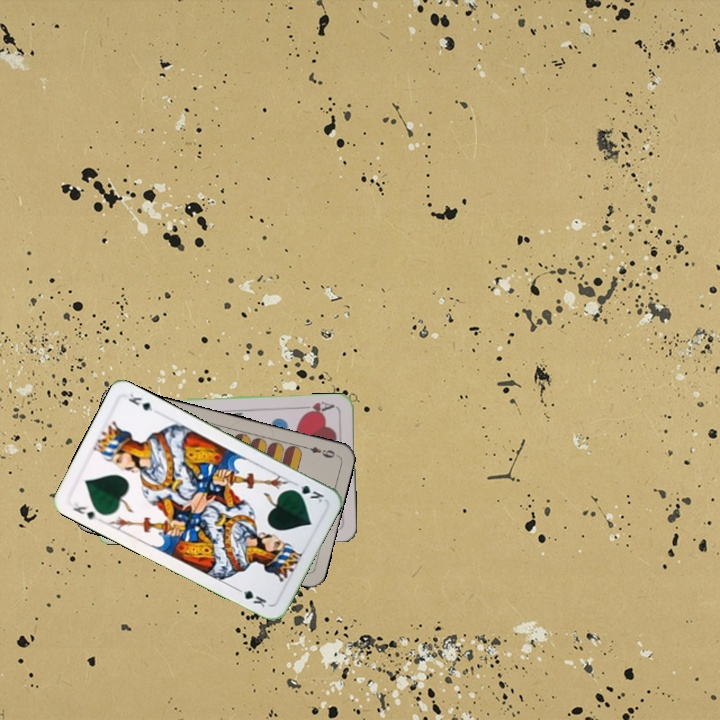E9: (299, 442, 339, 461)
GK: (287, 480, 327, 507), (69, 498, 101, 523)
HA: (298, 397, 339, 416)
